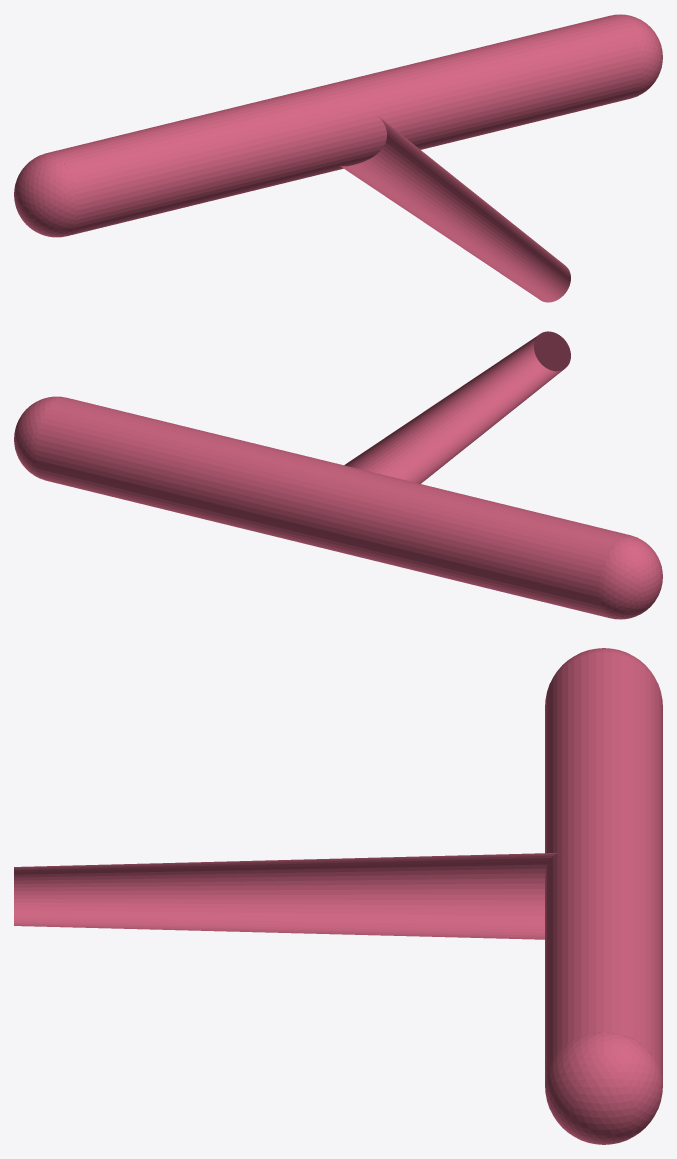
The model's file is hot_runner_system.glb.
The picture shows the model from 3 angles, top to bottom: view 1: azimuth 30°, elevation 25°; view 2: azimuth 150°, elevation 25°; view 3: azimuth 270°, elevation 25°; orthographic projection. The views are drawn at different scales.
Visible parts, largest first — view 1: Hot_Runner_System; view 2: Hot_Runner_System; view 3: Hot_Runner_System.
Part boxes in pixels (left/top/right/bottom): Hot_Runner_System: left=14, top=14, right=662, bottom=302; Hot_Runner_System: left=14, top=331, right=662, bottom=619; Hot_Runner_System: left=14, top=648, right=662, bottom=1144.
Bounding box in the file's own units: 86 × 10 × 55.
